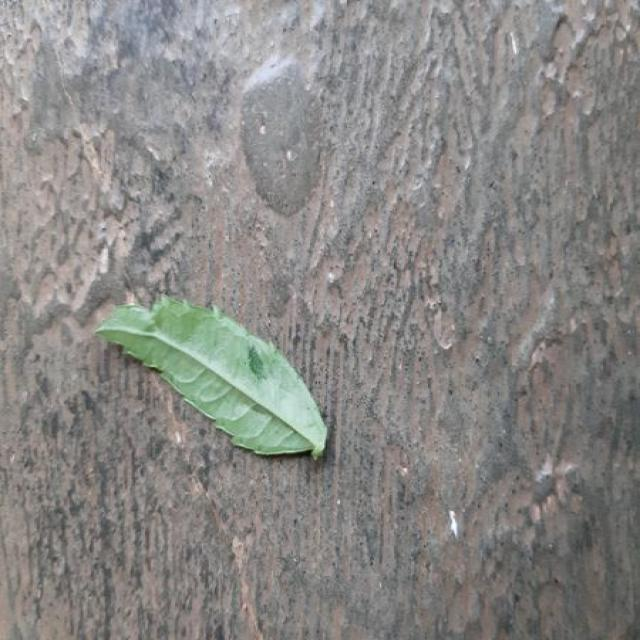marigold: (95, 296, 327, 458)
